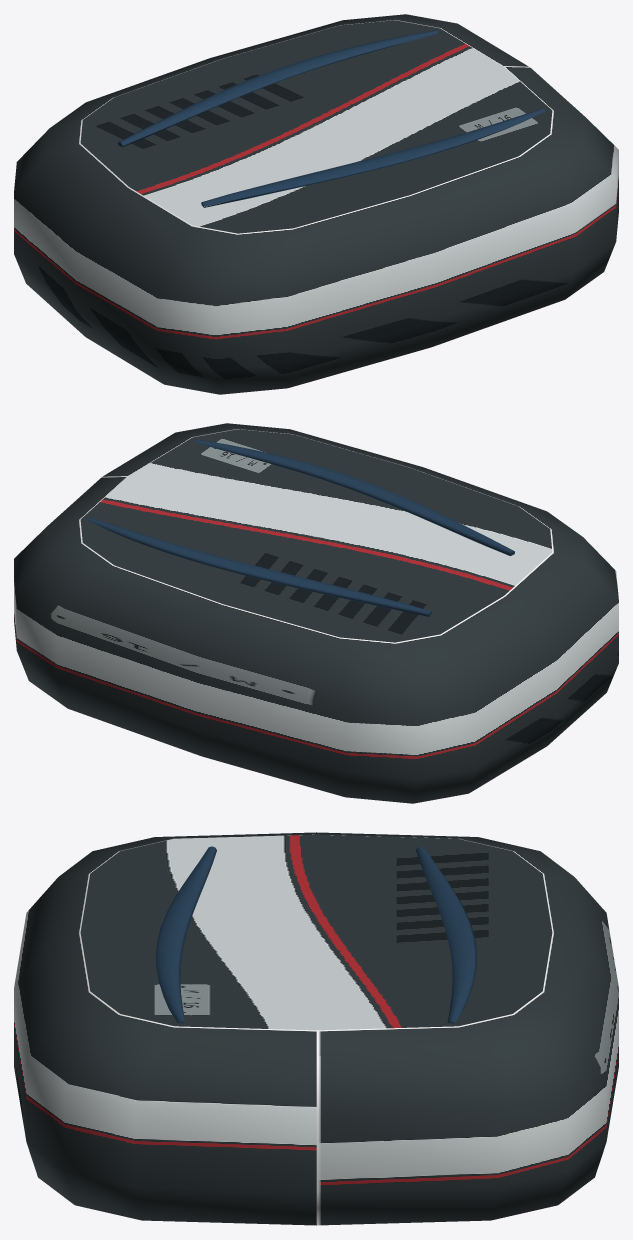
Rendered from MotorCowl_16_R_水銀・朱返し.glb.
The picture shows the model from 3 angles, top to bottom: view 1: azimuth 30°, elevation 25°; view 2: azimuth 150°, elevation 25°; view 3: azimuth 270°, elevation 25°; orthographic projection. The views are drawn at different scales.
Visible parts, largest first — view 1: MotorCowl_16_R; view 2: MotorCowl_16_R; view 3: MotorCowl_16_R.
Part boxes in pixels (left/top/right/bottom): MotorCowl_16_R: left=14, top=14, right=618, bottom=394; MotorCowl_16_R: left=14, top=423, right=618, bottom=803; MotorCowl_16_R: left=14, top=832, right=618, bottom=1225.
Bounding box in the file's own units: 0.332 × 0.1192 × 0.286.
Materials: 1 (1 with a texture image).
